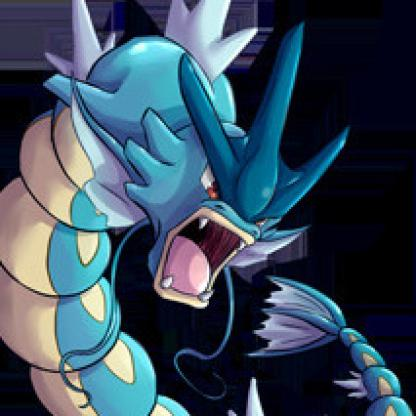Gyarados: (7, 19, 397, 415)
